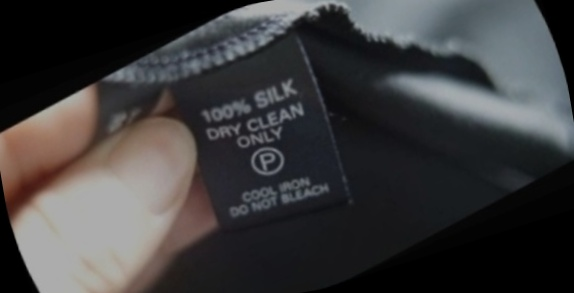dry_clean_any_solvent_except_trichloroethylene: (236, 129, 300, 191)
